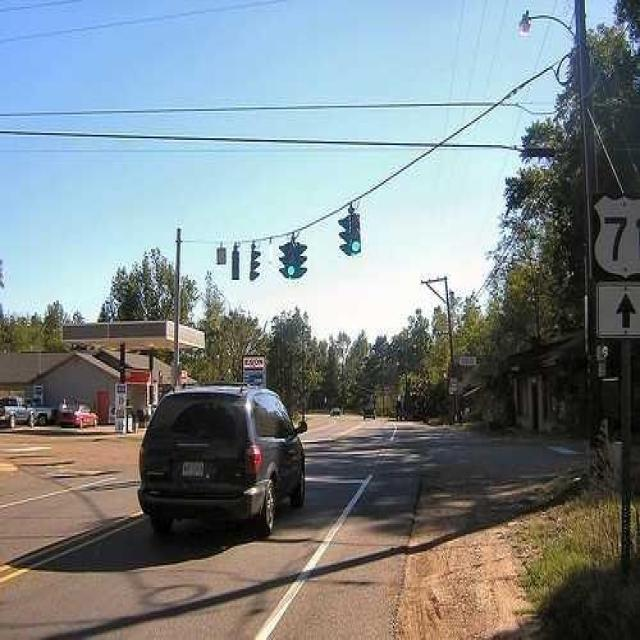Traffic Light -Green-: (279, 230, 309, 284), (336, 208, 364, 258)
